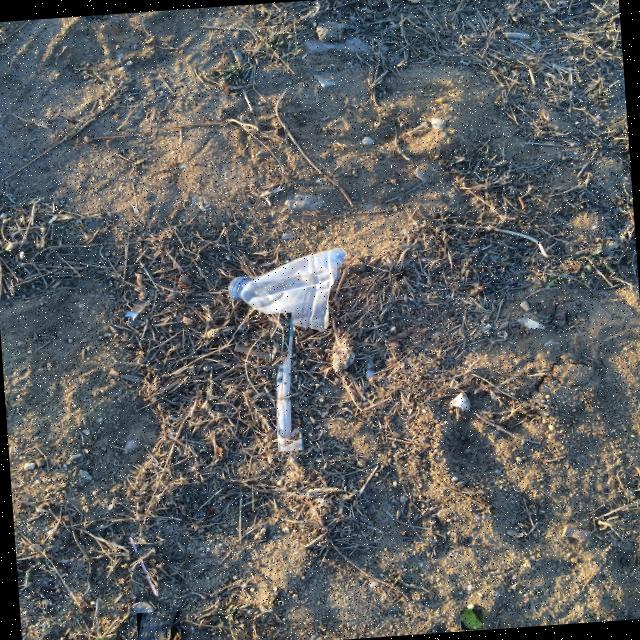Cigarette: (125, 301, 150, 319)
Clear plastic bottle: (229, 248, 346, 330)
Other plastic bottle: (129, 537, 157, 594)
Unlabeled litter: (278, 318, 293, 451), (138, 611, 179, 640), (461, 609, 483, 629)
